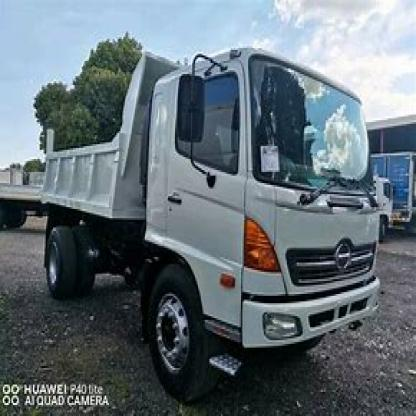dump_truck: (32, 43, 380, 400)
